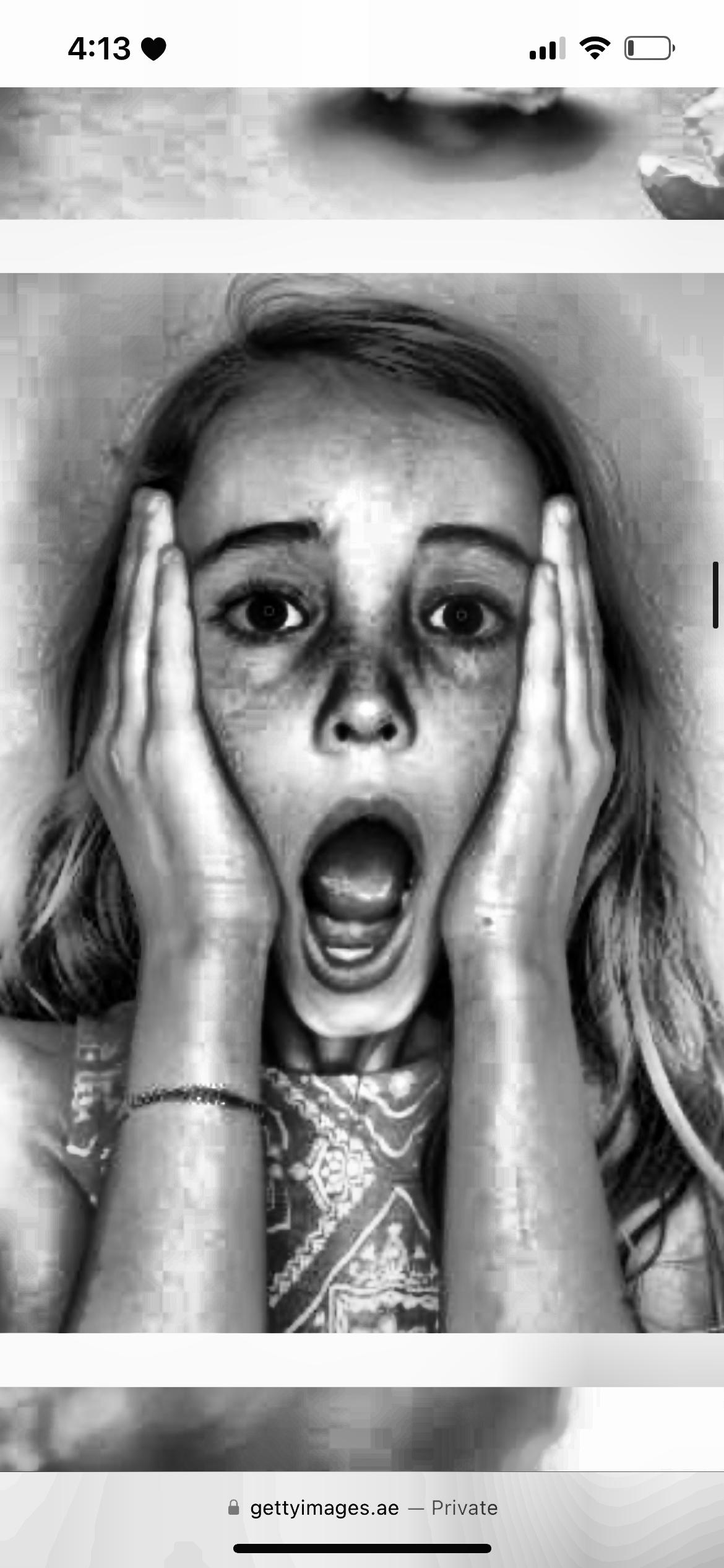surprised: (152, 415, 574, 1035)
